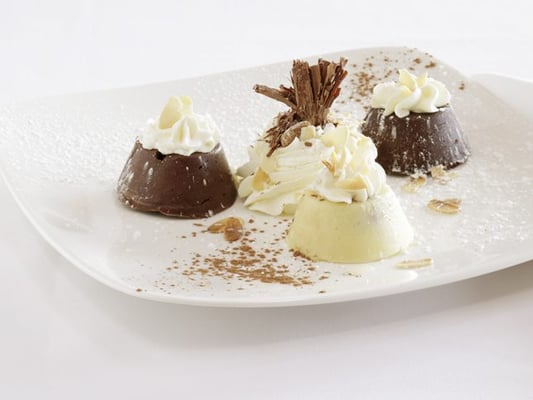sushi: (237, 54, 417, 265), (117, 93, 238, 219), (357, 54, 471, 178)
